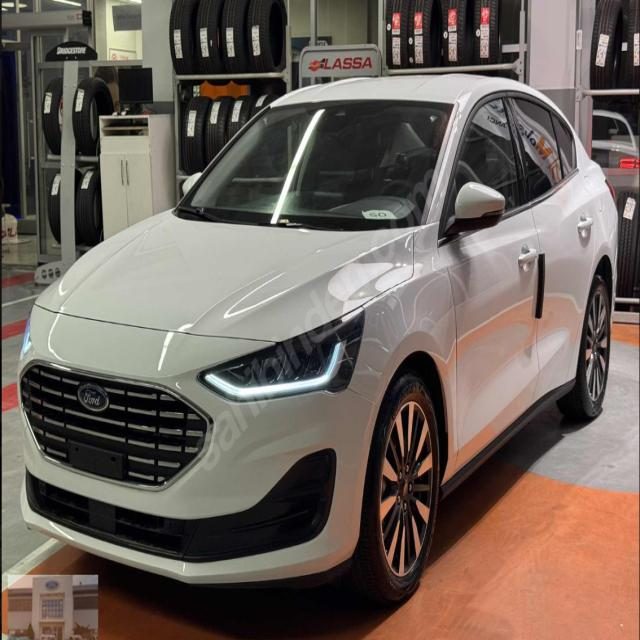ford: (74, 378, 111, 416)
